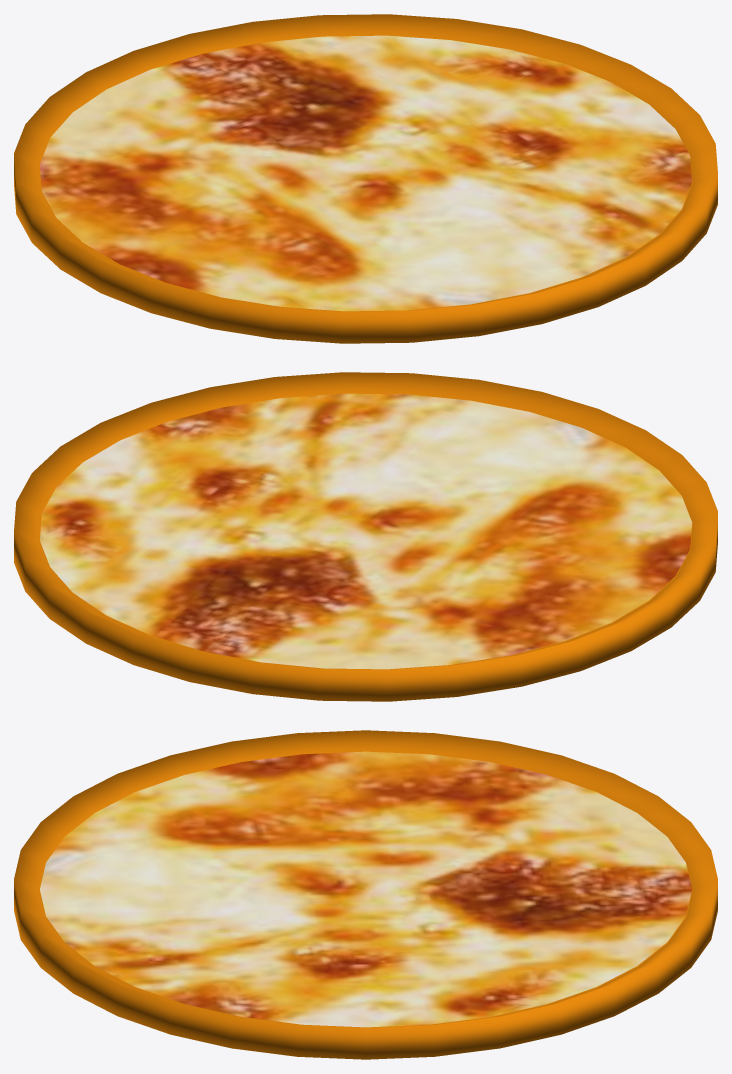
Rendered from Pizzav2.fbx.
The picture shows the model from 3 angles, top to bottom: view 1: azimuth 30°, elevation 25°; view 2: azimuth 150°, elevation 25°; view 3: azimuth 270°, elevation 25°; orthographic projection.
Parts seen in each view (by area): view 1: Pizza; view 2: Pizza; view 3: Pizza.
Boxes of the visible parts, box(x1,y1,x2,y2) form: Pizza: box(14, 14, 717, 343); Pizza: box(14, 372, 717, 701); Pizza: box(14, 730, 717, 1059).
Size of the model in its own units: 114 by 5.72 by 114.
Materials: 2 (1 with a texture image).
